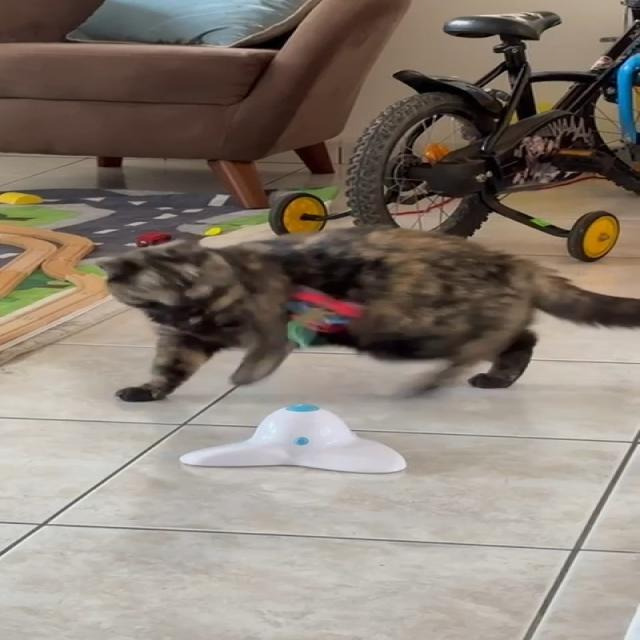authorized: (93, 224, 639, 402)
